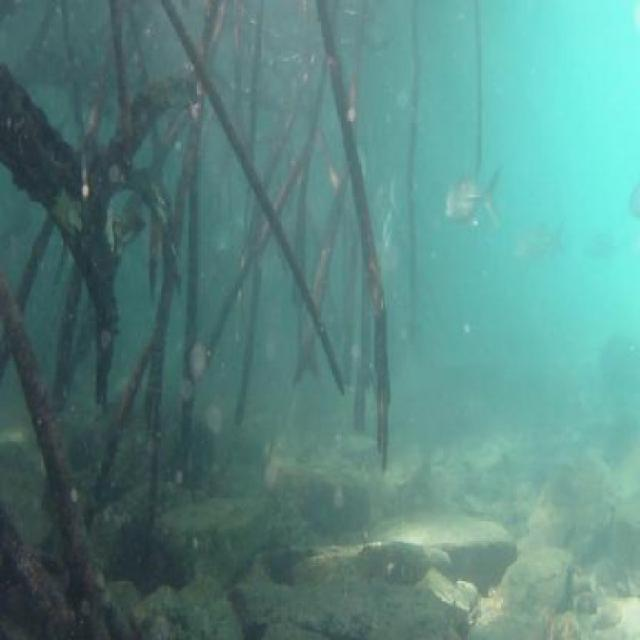Caranx_sexfasciatus_juvenile: (440, 167, 502, 244), (511, 218, 567, 279), (373, 167, 398, 221)
